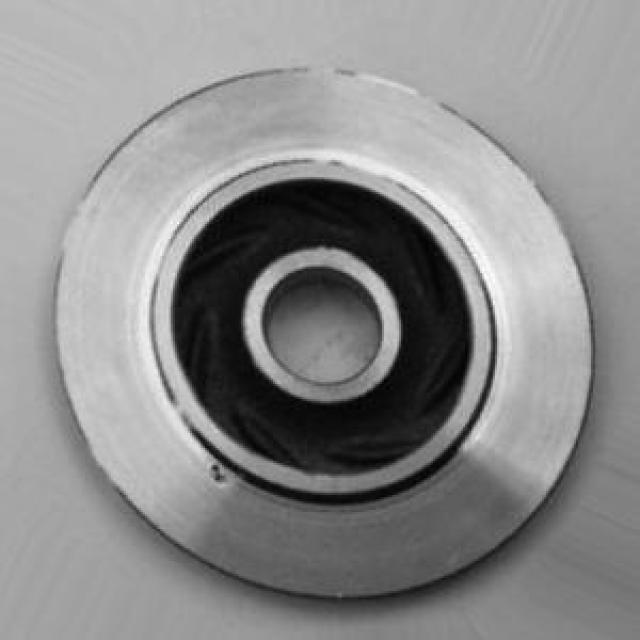Defect: (198, 460, 234, 495)
